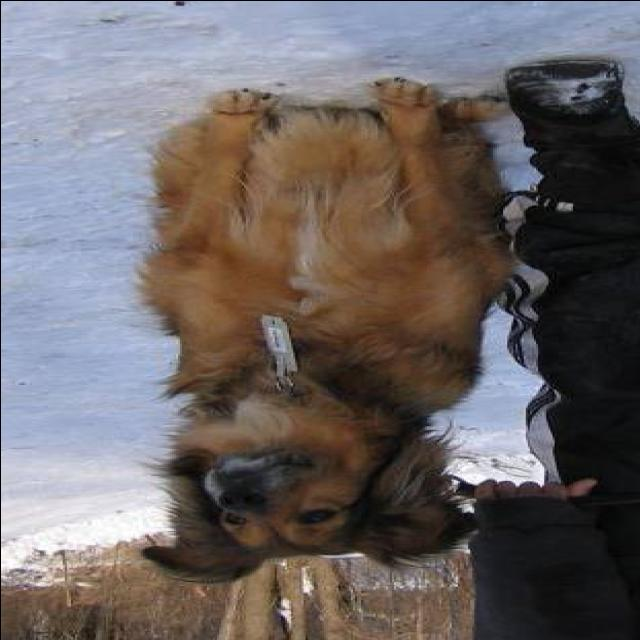dog: (111, 76, 530, 584)
